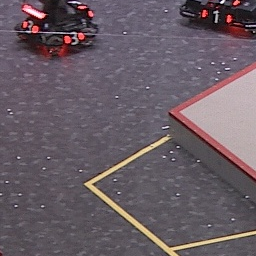Red: (202, 8, 231, 26), (62, 31, 86, 46), (20, 20, 39, 35)
Robot: (16, 1, 99, 54), (178, 1, 256, 35)
